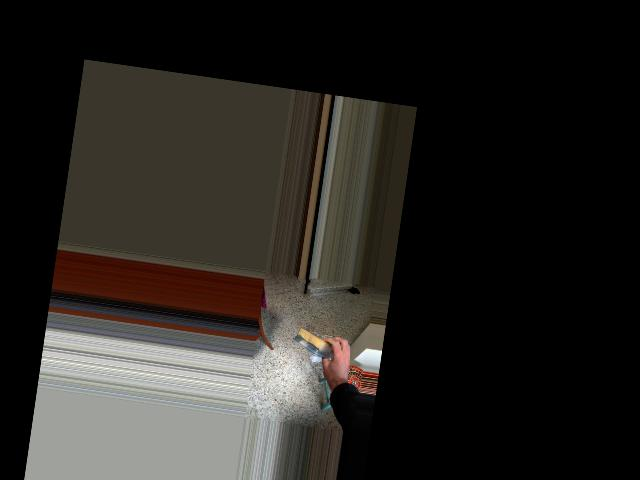cheese: (287, 322, 346, 365)
